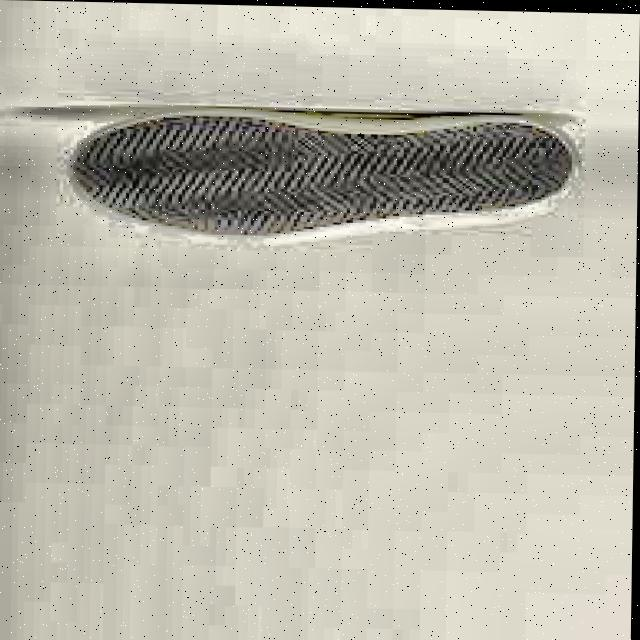shoes: (44, 48, 596, 295)
